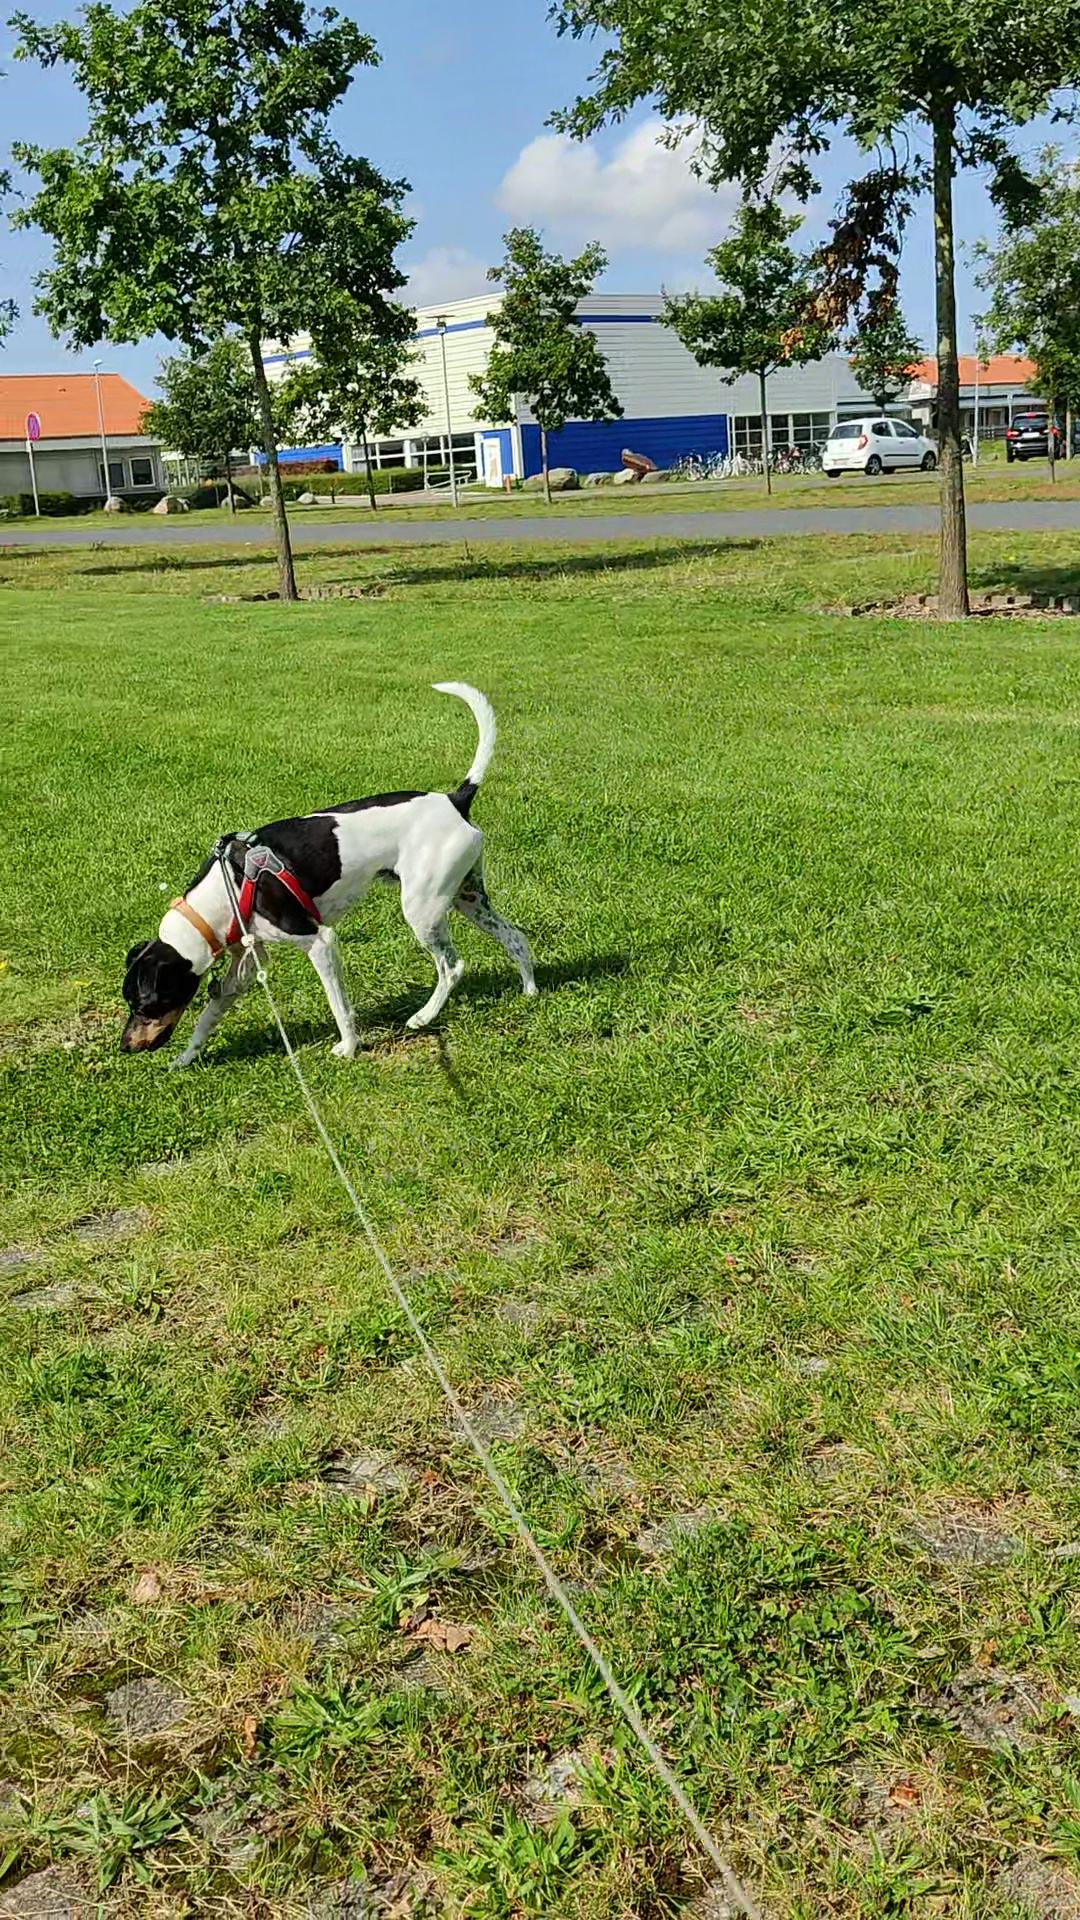Dog: (104, 662, 546, 1075)
